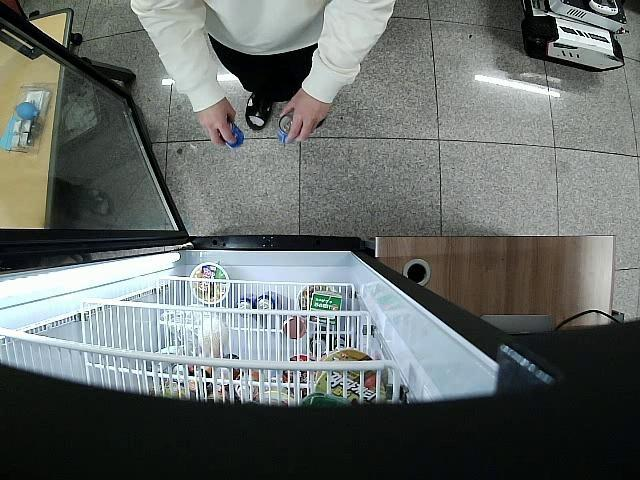15_letsbe: (221, 119, 244, 150), (277, 114, 294, 142)
